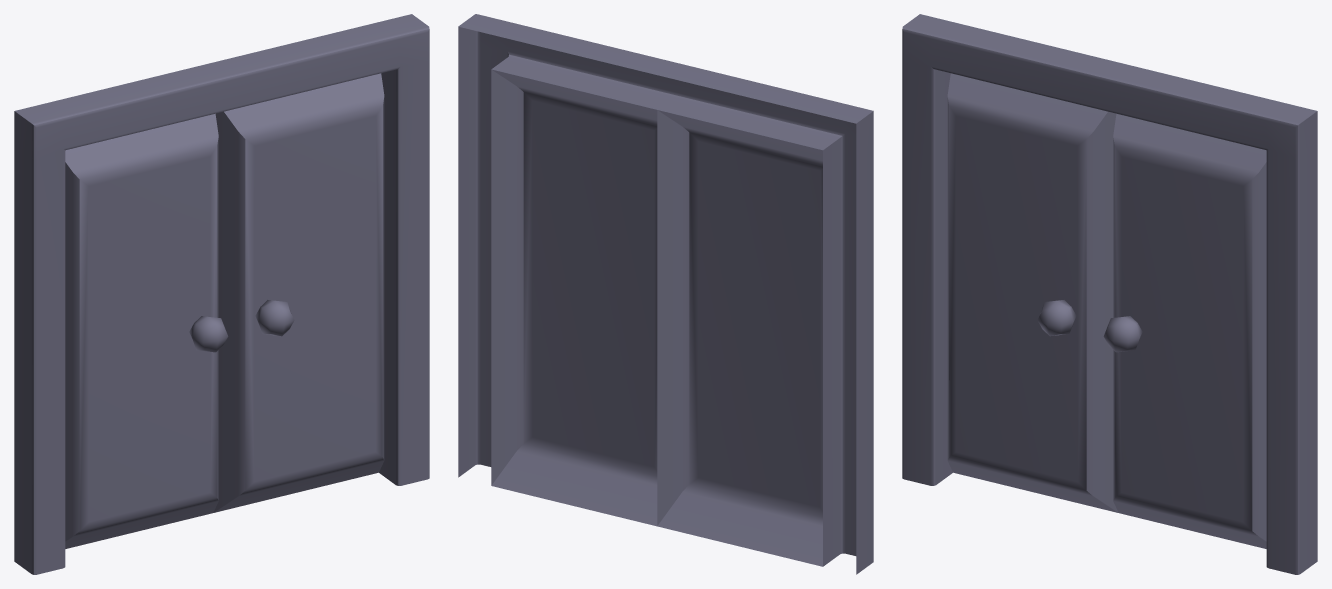
File: SM_Doors.fbx
3 views of the same model, side by side, from view 1: azimuth 30°, elevation 25°; view 2: azimuth 150°, elevation 25°; view 3: azimuth 330°, elevation 25° (orthographic).
Parts seen in each view (by area): view 1: pCube18; view 2: pCube18; view 3: pCube18.
Boxes of the visible parts, left/top/right/bottom form: pCube18: left=14, top=14, right=429, bottom=574; pCube18: left=458, top=14, right=873, bottom=574; pCube18: left=902, top=14, right=1317, bottom=574.
Bounding box in the file's own units: 240 × 260 × 40.
